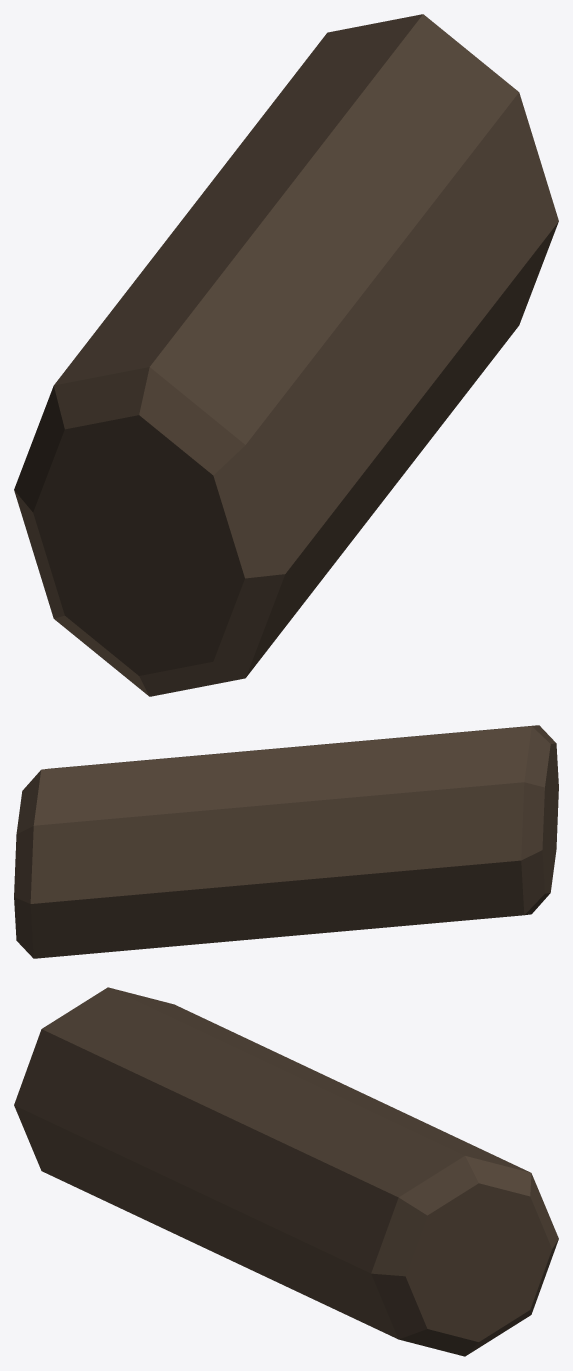
The model's file is Fireplace_Rustic_Log2.FBX.
The picture shows the model from 3 angles, top to bottom: view 1: azimuth 30°, elevation 25°; view 2: azimuth 150°, elevation 25°; view 3: azimuth 270°, elevation 25°; orthographic projection. The views are drawn at different scales.
Visible parts, largest first — view 1: Fireplace_Rustic_Log2; view 2: Fireplace_Rustic_Log2; view 3: Fireplace_Rustic_Log2.
Part boxes in pixels (left/top/right/bottom): Fireplace_Rustic_Log2: left=14, top=14, right=558, bottom=696; Fireplace_Rustic_Log2: left=14, top=725, right=558, bottom=958; Fireplace_Rustic_Log2: left=14, top=987, right=558, bottom=1356.
Bounding box in the file's own units: 21.78 × 9.78 × 24.04.
1 material, 1 textured.
